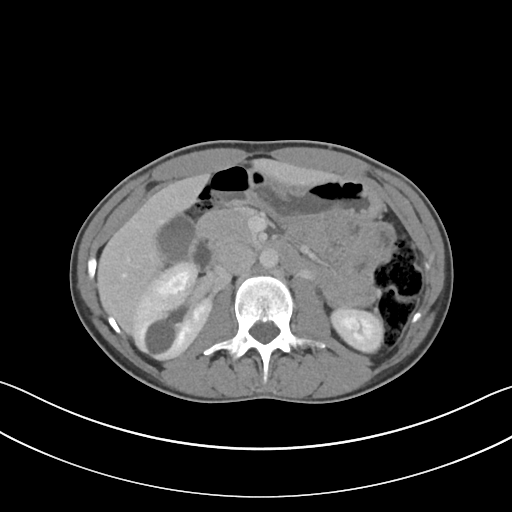Lesion: (142, 316, 179, 360)
